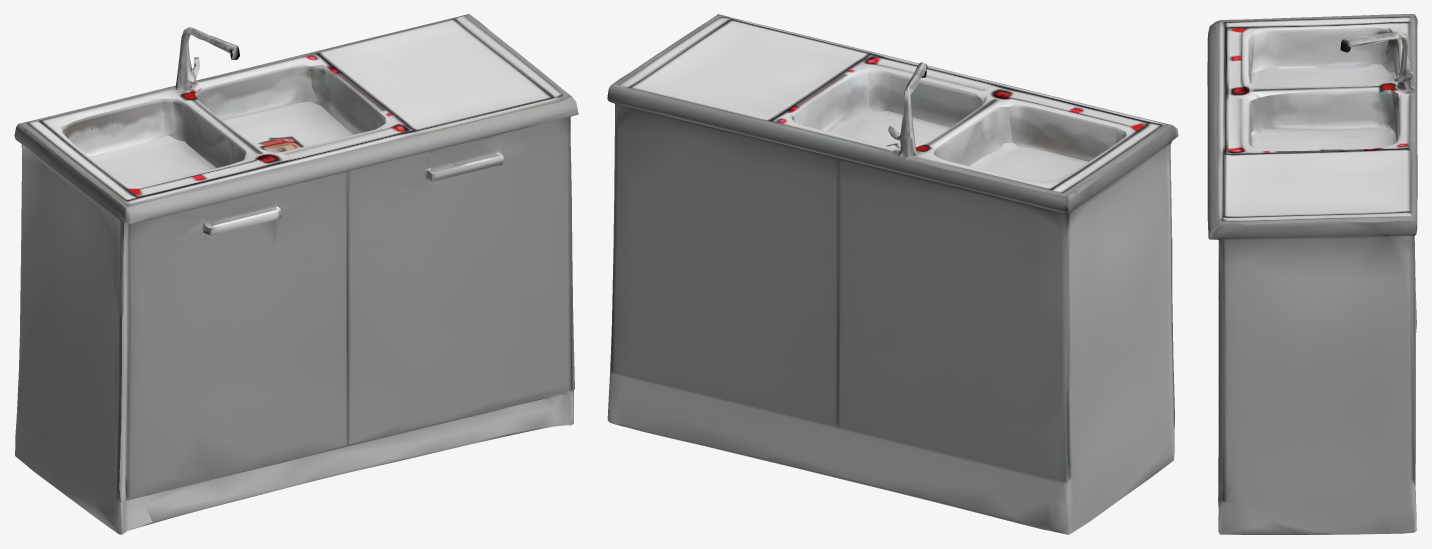
Rendered from Evier4_3D_textured.glb.
The picture shows the model from 3 angles, left to right: view 1: azimuth 30°, elevation 25°; view 2: azimuth 150°, elevation 25°; view 3: azimuth 270°, elevation 25°; orthographic projection. The views are drawn at different scales.
Visible parts, largest first — view 1: temp_mesh.ply; view 2: temp_mesh.ply; view 3: temp_mesh.ply.
Part boxes in pixels (x1,y1,x2,y2): temp_mesh.ply: (14,14,578,534); temp_mesh.ply: (607,14,1178,534); temp_mesh.ply: (1207,14,1417,534).
Bounding box in the file's own units: 1.97 × 1.64 × 0.838.
Materials: 1 (1 with a texture image).
